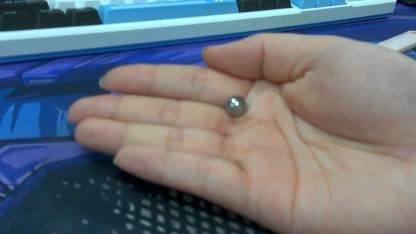ironball: (219, 94, 245, 114)
